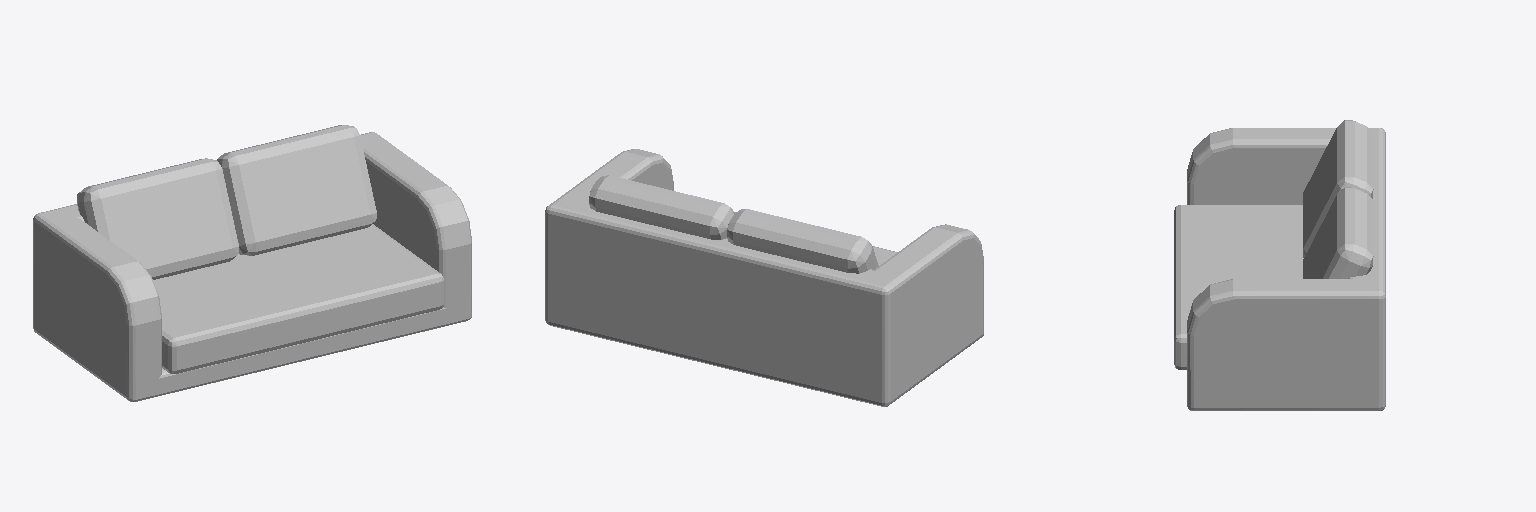
The model's file is couch.obj.
3 renders of one model, left to right at view 1: azimuth 30°, elevation 25°; view 2: azimuth 150°, elevation 25°; view 3: azimuth 270°, elevation 25°, orthographic.
Parts seen in each view (by area): view 1: couch_Plane.002; view 2: couch_Plane.002; view 3: couch_Plane.002.
Boxes of the visible parts, <box> form: couch_Plane.002: <box>33,125,471,401</box>; couch_Plane.002: <box>545,149,983,406</box>; couch_Plane.002: <box>1174,120,1385,410</box>.
Size of the model in its own units: 3 by 1.22 by 1.6.